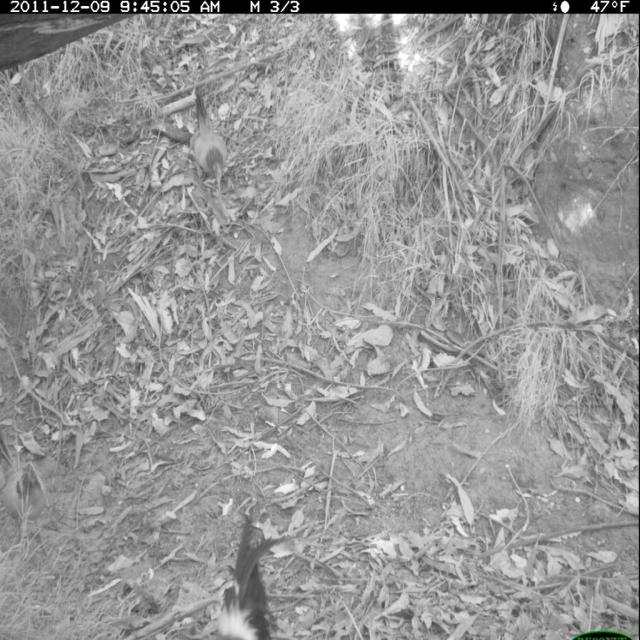bird: (204, 508, 291, 638)
